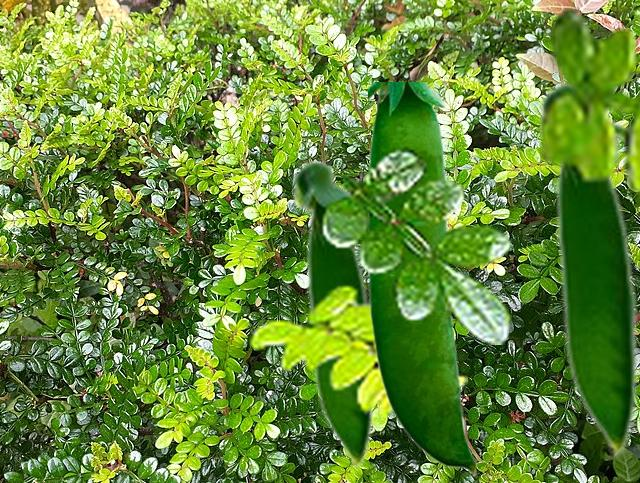pea: (368, 82, 476, 476), (536, 78, 638, 462), (290, 157, 374, 473)
